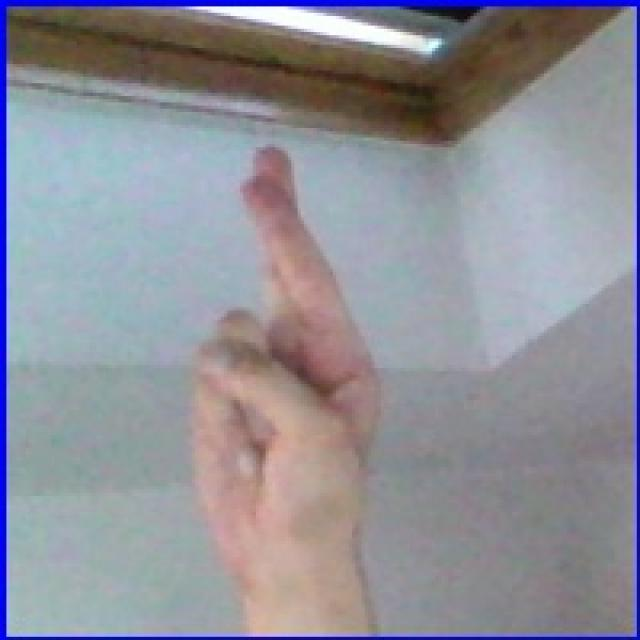Letra-R: (153, 123, 418, 584)
